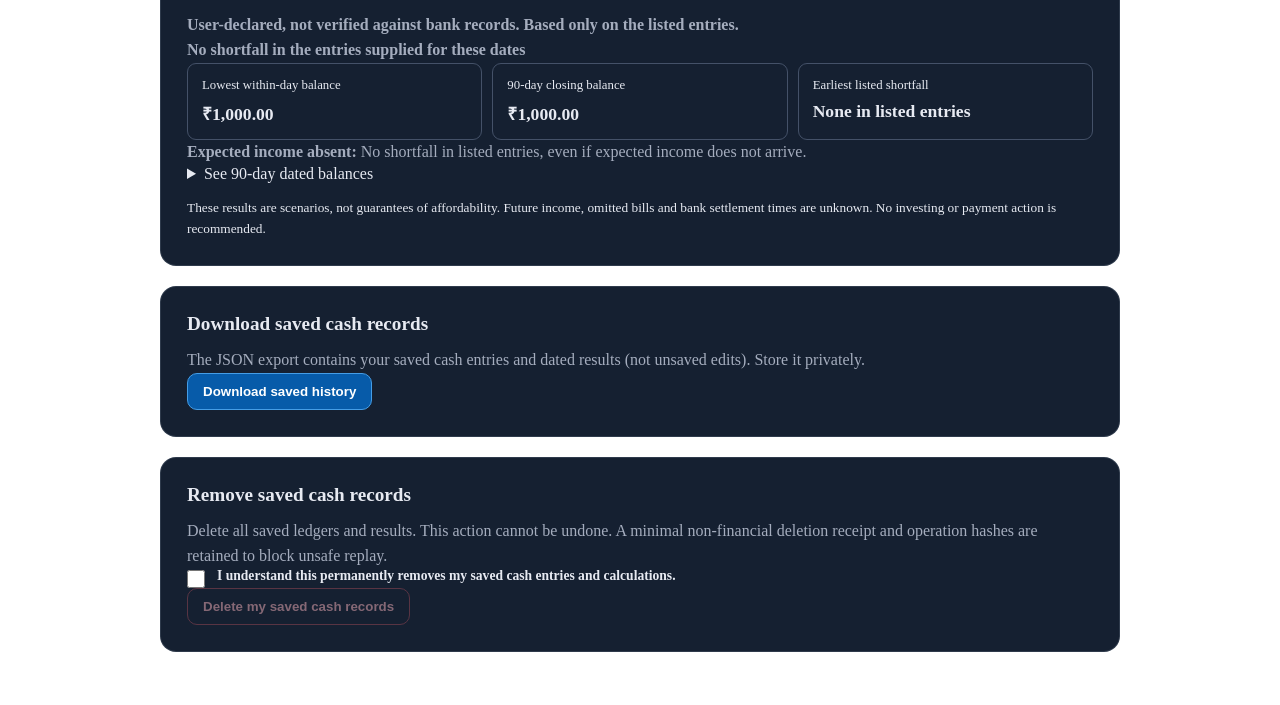
Test: 90-day cash check › reuses one deletion operation key on response loss and clears the plan after replay
The width and height of the screenshot is (1280, 705).
(page scrolled)
Click the checkbox labelled "I understand this permanently removes" at (196, 579), box x1=187 y1=570 x2=205 y2=588
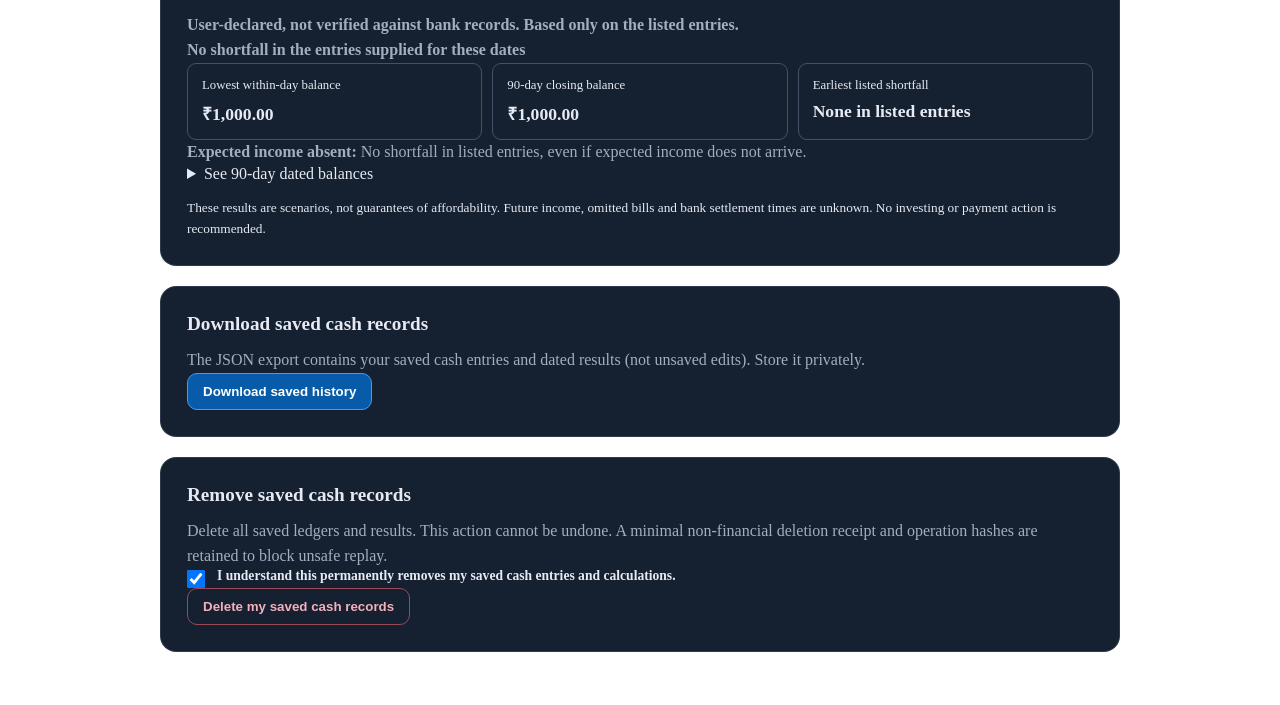
Click the button "Delete my saved cash records" at (299, 607), box x1=187 y1=588 x2=410 y2=625
(page scrolled)
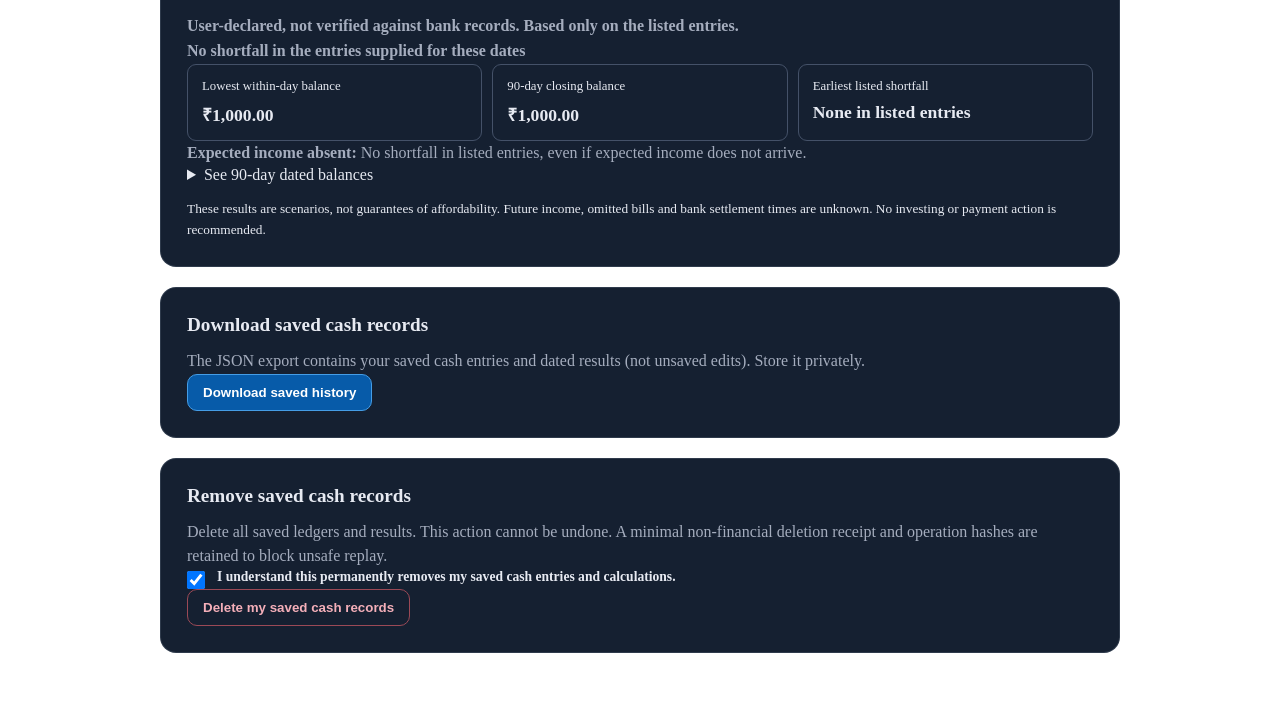
Click the button "Delete my saved cash records" at (299, 608), box x1=187 y1=589 x2=410 y2=626
(page scrolled)
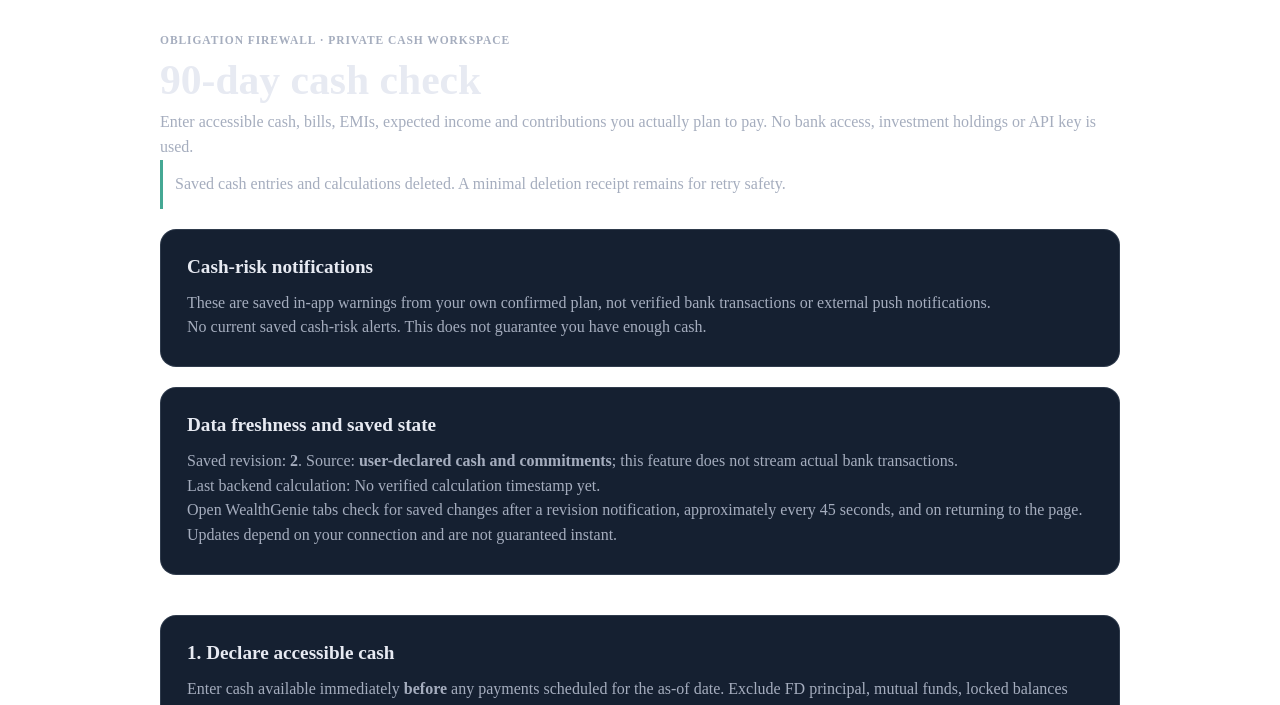
Expected: the text "Saved cash entries and calculations deleted" is shown, x1=175 y1=175 x2=786 y2=192
Expected: the button "Delete my saved cash records" is gone
